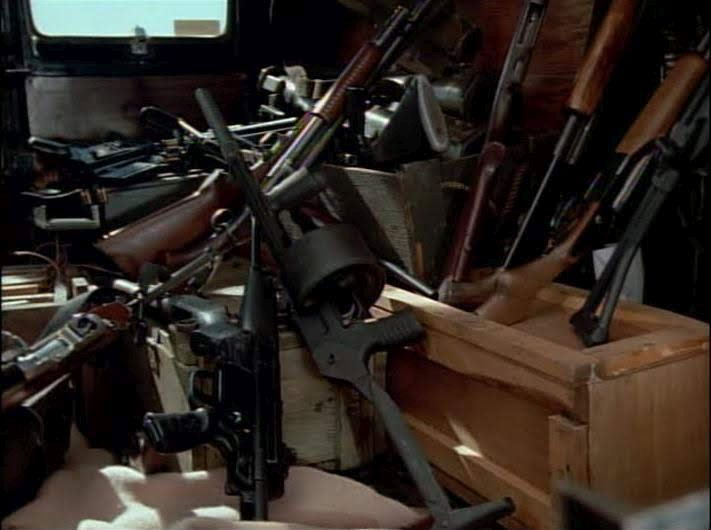gun: (190, 83, 493, 517), (203, 7, 431, 228), (449, 3, 558, 326), (179, 202, 288, 510), (21, 225, 225, 373), (537, 5, 619, 342)
